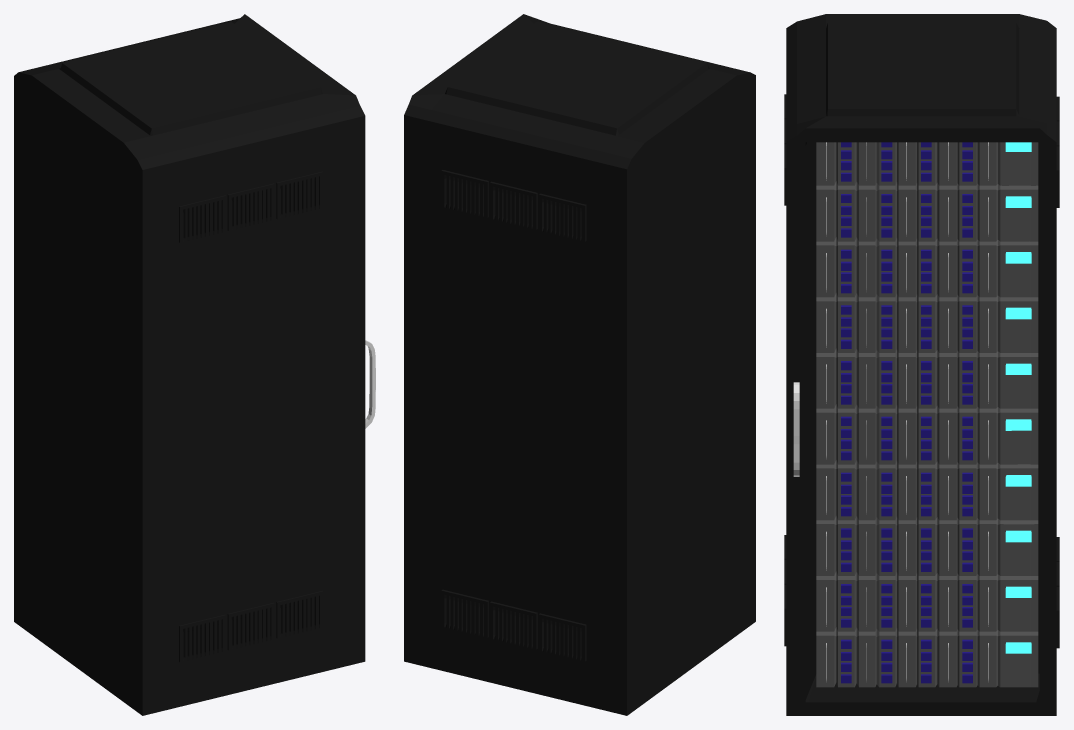
File: rack.glb
The picture shows the model from 3 angles, left to right: view 1: azimuth 30°, elevation 25°; view 2: azimuth 150°, elevation 25°; view 3: azimuth 270°, elevation 25°; orthographic projection. The views are drawn at different scales.
Visible parts, largest first — view 1: rack; view 2: rack; view 3: rack.
Part boxes in pixels (bbox=[...]): rack: bbox=[14, 14, 375, 715]; rack: bbox=[404, 14, 755, 715]; rack: bbox=[784, 14, 1059, 715].
Size of the model in its own units: 10.64 by 24.27 by 10.18.
